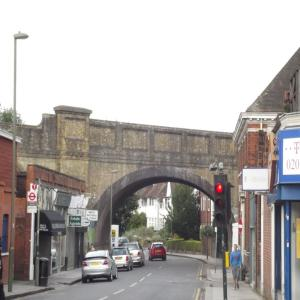Vehicle-registration-plate: (91, 264, 101, 267)
